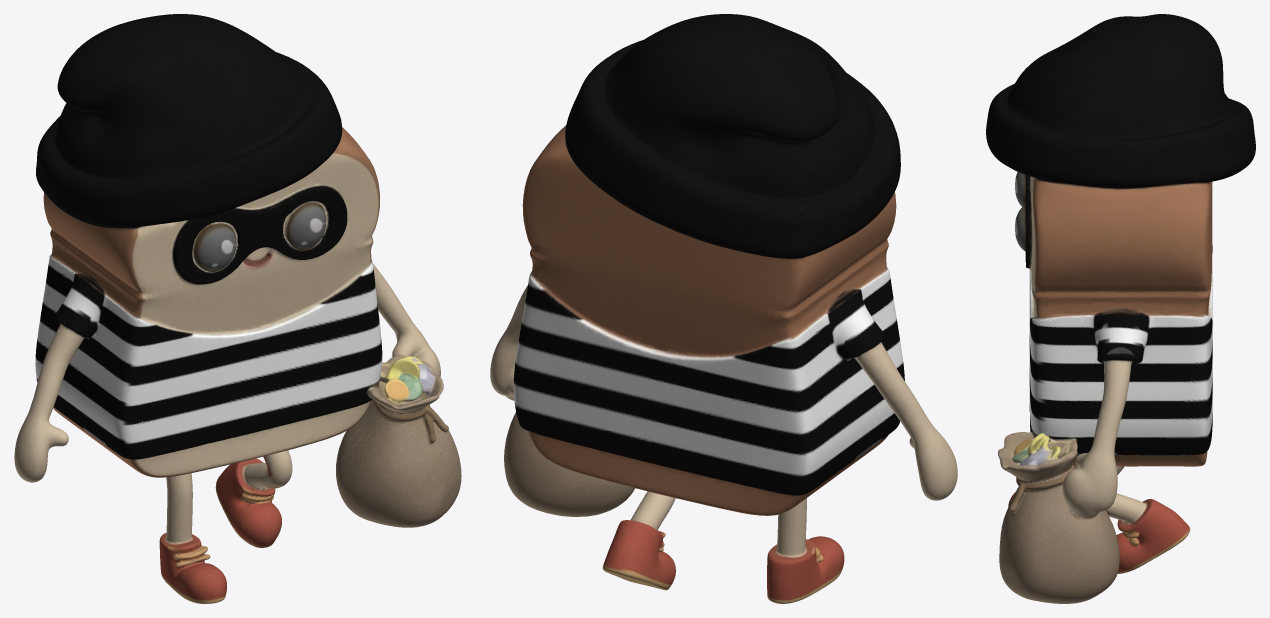
The model's file is crumb-burglar.glb.
The picture shows the model from 3 angles, left to right: view 1: azimuth 30°, elevation 25°; view 2: azimuth 150°, elevation 25°; view 3: azimuth 270°, elevation 25°; orthographic projection. The views are drawn at different scales.
Size of the model in its own units: 1.55 by 1.9 by 0.9151.
1 material, 1 textured.
